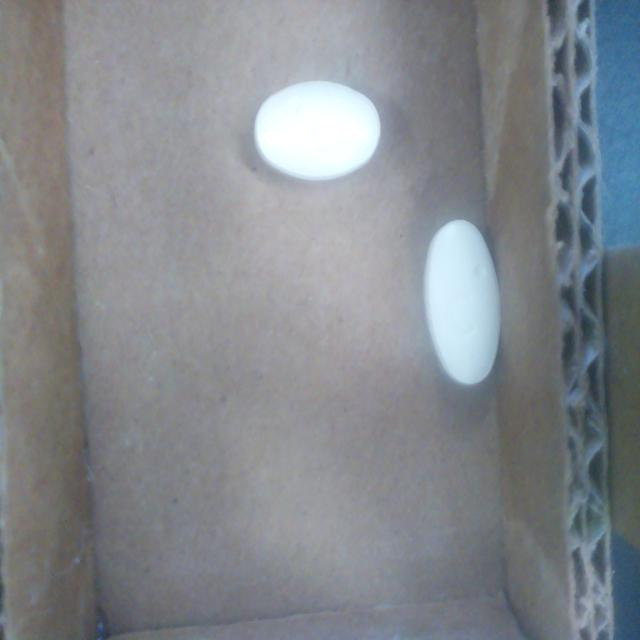pill: (254, 81, 380, 181), (424, 220, 500, 385)
